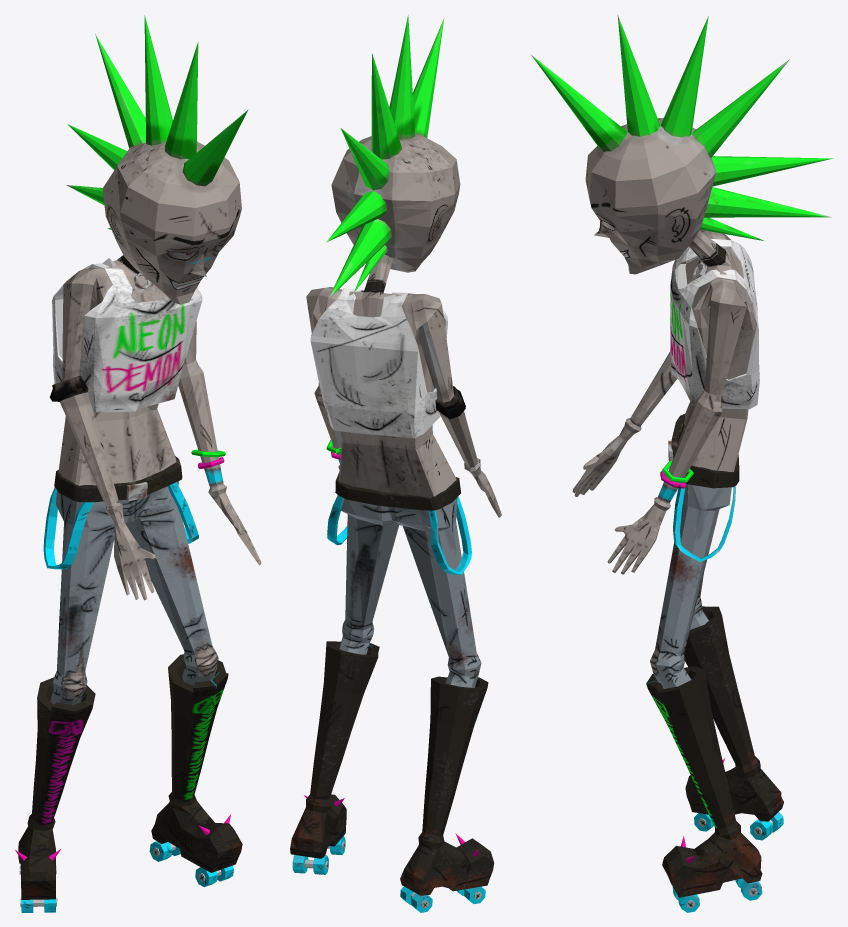
Rendered from punkAnimation_000050.obj.
3 renders of one model, left to right at view 1: azimuth 30°, elevation 25°; view 2: azimuth 150°, elevation 25°; view 3: azimuth 270°, elevation 25°, orthographic. The views are drawn at different scales.
Parts seen in each view (by area): view 1: Cube.004_Cube.003; view 2: Cube.004_Cube.003; view 3: Cube.004_Cube.003.
Boxes of the visible parts, box(x1,y1,x2,y2) form: Cube.004_Cube.003: box(15, 15, 261, 912); Cube.004_Cube.003: box(290, 15, 501, 912); Cube.004_Cube.003: box(531, 15, 833, 912).
Size of the model in its own units: 1.83 by 7.44 by 2.36.
